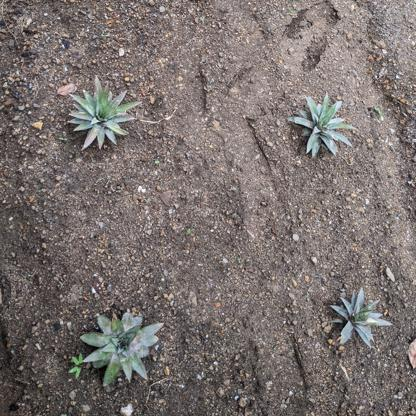pineapple: (77, 307, 163, 389), (65, 75, 141, 151), (285, 93, 357, 160), (328, 287, 391, 351)
